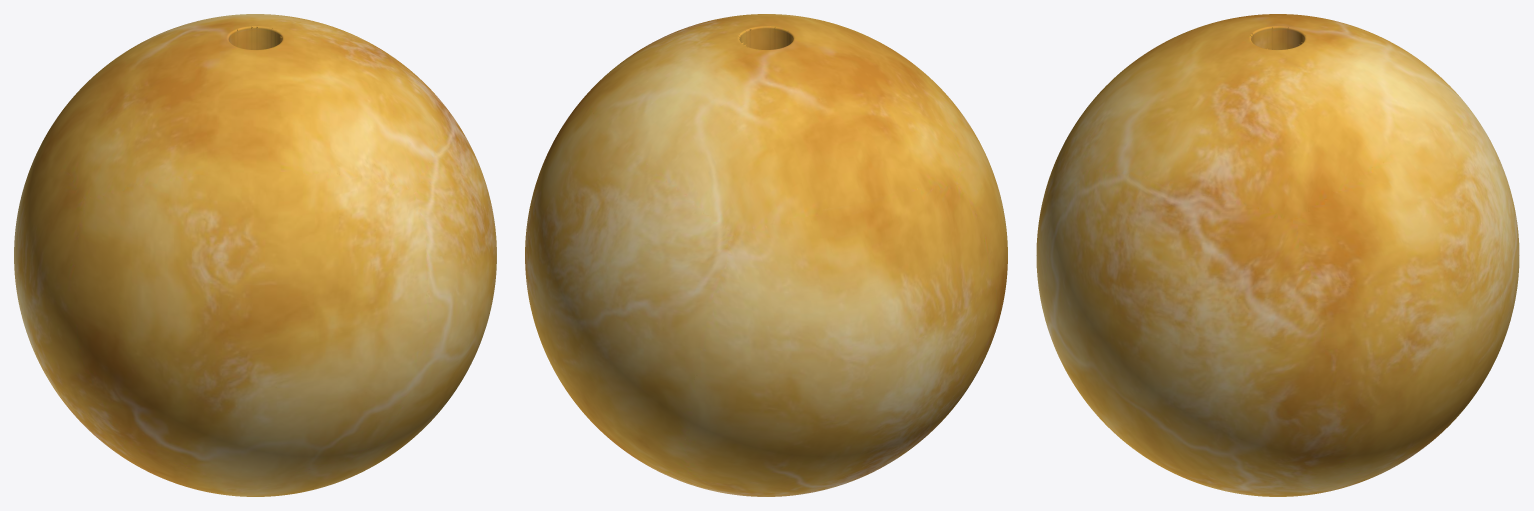
File: stone-citrine.glb
The picture shows the model from 3 angles, left to right: view 1: azimuth 30°, elevation 25°; view 2: azimuth 150°, elevation 25°; view 3: azimuth 270°, elevation 25°; orthographic projection.
Visible parts, largest first — view 1: Bead_hi; view 2: Bead_hi; view 3: Bead_hi.
Boxes of the visible parts, box(x1,y1,x2,y2) form: Bead_hi: box(14, 14, 496, 496); Bead_hi: box(525, 14, 1007, 496); Bead_hi: box(1036, 14, 1519, 496).
Bounding box in the file's own units: 1 × 0.9939 × 1.
Materials: 1 (1 with a texture image).
